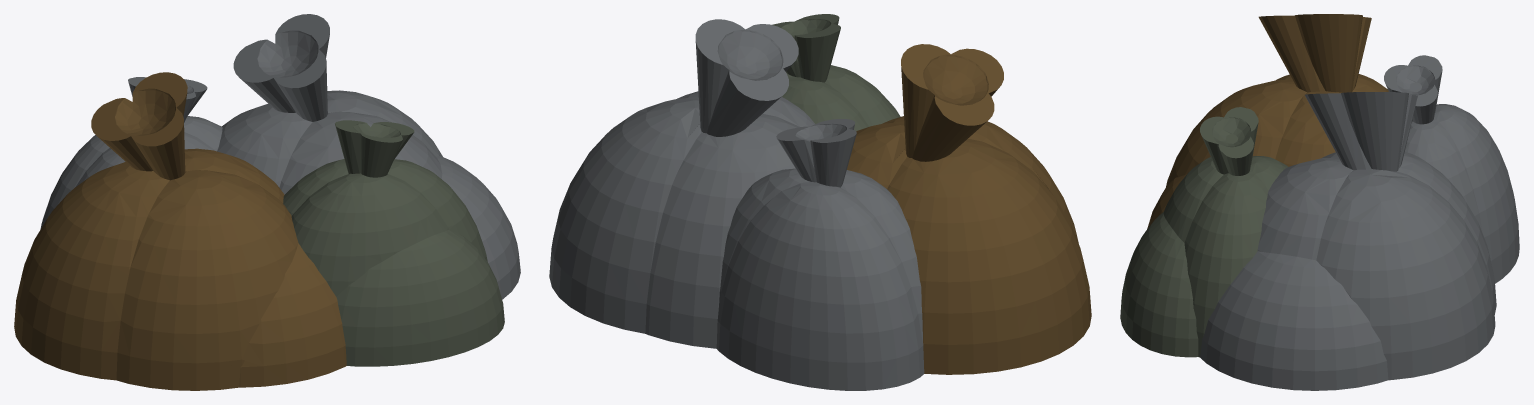
Rendered from trash bag.glb.
The picture shows the model from 3 angles, left to right: view 1: azimuth 30°, elevation 25°; view 2: azimuth 150°, elevation 25°; view 3: azimuth 270°, elevation 25°; orthographic projection. The views are drawn at different scales.
Visible parts, largest first — view 1: Mesh_Mesh_head_geo.001_lambert2SG.001; view 2: Mesh_Mesh_head_geo.001_lambert2SG.001; view 3: Mesh_Mesh_head_geo.001_lambert2SG.001.
Boxes of the visible parts, left/top/right/bottom form: Mesh_Mesh_head_geo.001_lambert2SG.001: left=14, top=14, right=520, bottom=390; Mesh_Mesh_head_geo.001_lambert2SG.001: left=549, top=14, right=1091, bottom=390; Mesh_Mesh_head_geo.001_lambert2SG.001: left=1120, top=14, right=1519, bottom=390.
Size of the model in its own units: 0.0225 by 0.011 by 0.0173.
